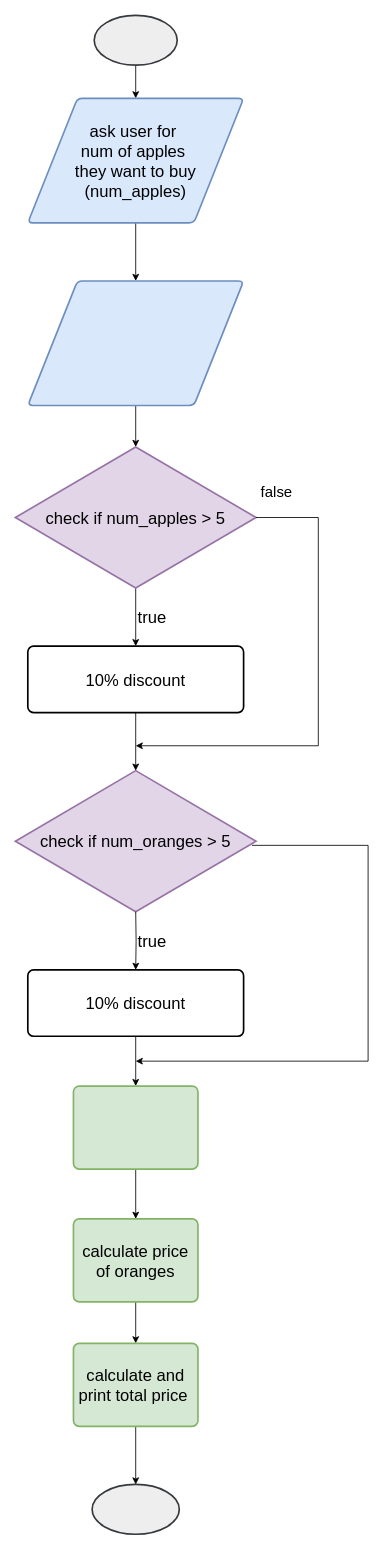
Some shapes in this 389 by 1549 pixel diagram are drawn without their labels. The shapes that lost their labels are listed below. From the top down, each one's centre as x and y in pixels, then its label:
the point at 135,40: start
the point at 135,343: ask user for num of oranges they want to buy (num_oranges)
the point at 135,1127: calculate price of apples
the point at 135,1509: end
